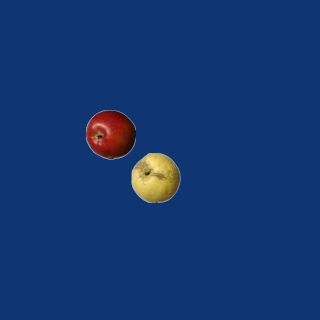Apple Braeburn: (85, 109, 135, 159)
Apple Golden 1: (130, 152, 180, 202)
